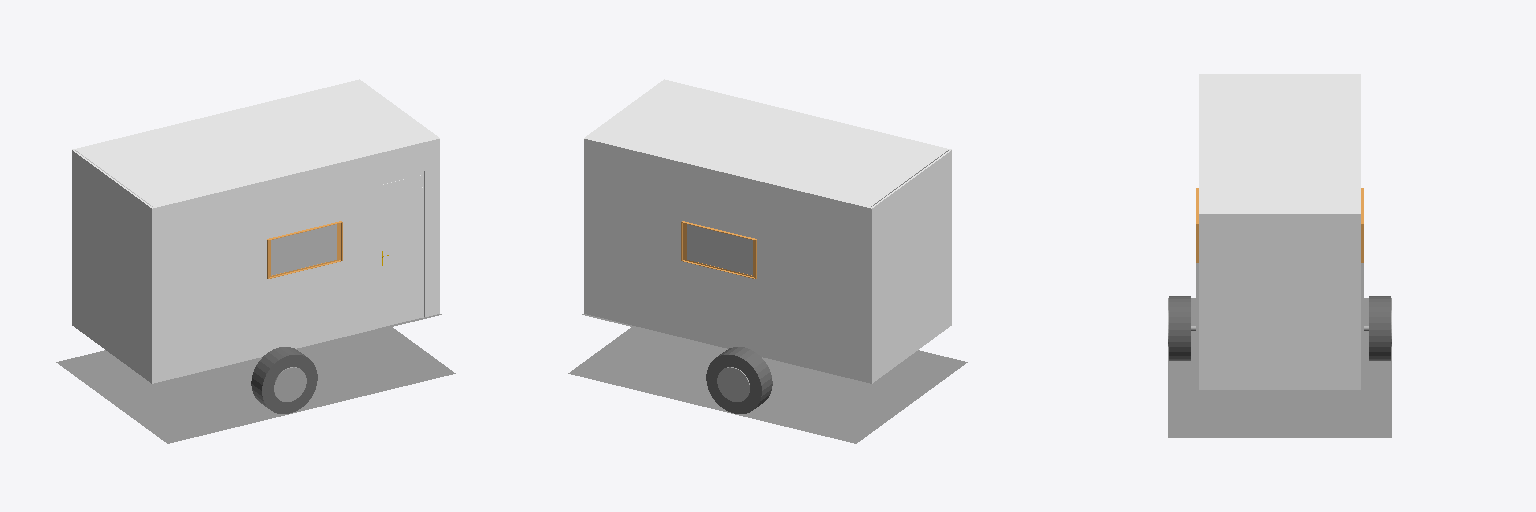
The model's file is anhaenger_zugeklappt.obj.
3 renders of one model, left to right at view 1: azimuth 30°, elevation 25°; view 2: azimuth 150°, elevation 25°; view 3: azimuth 270°, elevation 25°, orthographic.
Visible parts, largest first — view 1: wall_3_16_16_17, room_4_21_21_22, ground_1, wall_1_4_4_64, sweethome3d_opening_on_hinge_1_door_30_39_37, sweethome3d_window_pane_36_26_27, Cylinder_96_4_4_44, Cylinder_96_7_7_47, Cylinder_32_3_3_43, frame_23_23_24; view 2: wall_1_4_4_5, room_4_21_21_22, ground_1, wall_1_4_4_64, sweethome3d_window_pane_39_29_30, Cylinder_96_4_4_54, Cylinder_96_7_7_57, Cylinder_32_3_3_53; view 3: wall_2_10_10_11, room_4_21_21_22, ground_1, Cylinder_32_3_3_43, Cylinder_32_3_3_53, ground_1_1_2.
Part boxes in pixels (x1,y1,x2,y2): wall_3_16_16_17: (154, 139, 439, 382); room_4_21_21_22: (76, 81, 436, 206); ground_1: (56, 327, 455, 443); wall_1_4_4_64: (72, 150, 152, 383); sweethome3d_opening_on_hinge_1_door_30_39_37: (380, 175, 421, 327); sweethome3d_window_pane_36_26_27: (271, 224, 336, 275); Cylinder_96_4_4_44: (262, 355, 317, 413); Cylinder_96_7_7_47: (274, 367, 306, 401); Cylinder_32_3_3_43: (251, 347, 307, 408); frame_23_23_24: (378, 172, 423, 327); wall_1_4_4_5: (584, 139, 869, 382); room_4_21_21_22: (587, 81, 947, 206); ground_1: (568, 327, 967, 443); wall_1_4_4_64: (871, 150, 951, 383); sweethome3d_window_pane_39_29_30: (687, 224, 752, 275); Cylinder_96_4_4_54: (706, 355, 761, 413); Cylinder_96_7_7_57: (717, 367, 749, 401); Cylinder_32_3_3_53: (716, 347, 772, 408); wall_2_10_10_11: (1199, 214, 1360, 389); room_4_21_21_22: (1202, 75, 1357, 212); ground_1: (1168, 298, 1391, 437); Cylinder_32_3_3_43: (1169, 296, 1190, 360); Cylinder_32_3_3_53: (1369, 296, 1390, 360); ground_1_1_2: (1196, 263, 1363, 389).
Size of the model in its own units: 310 by 230 by 208.